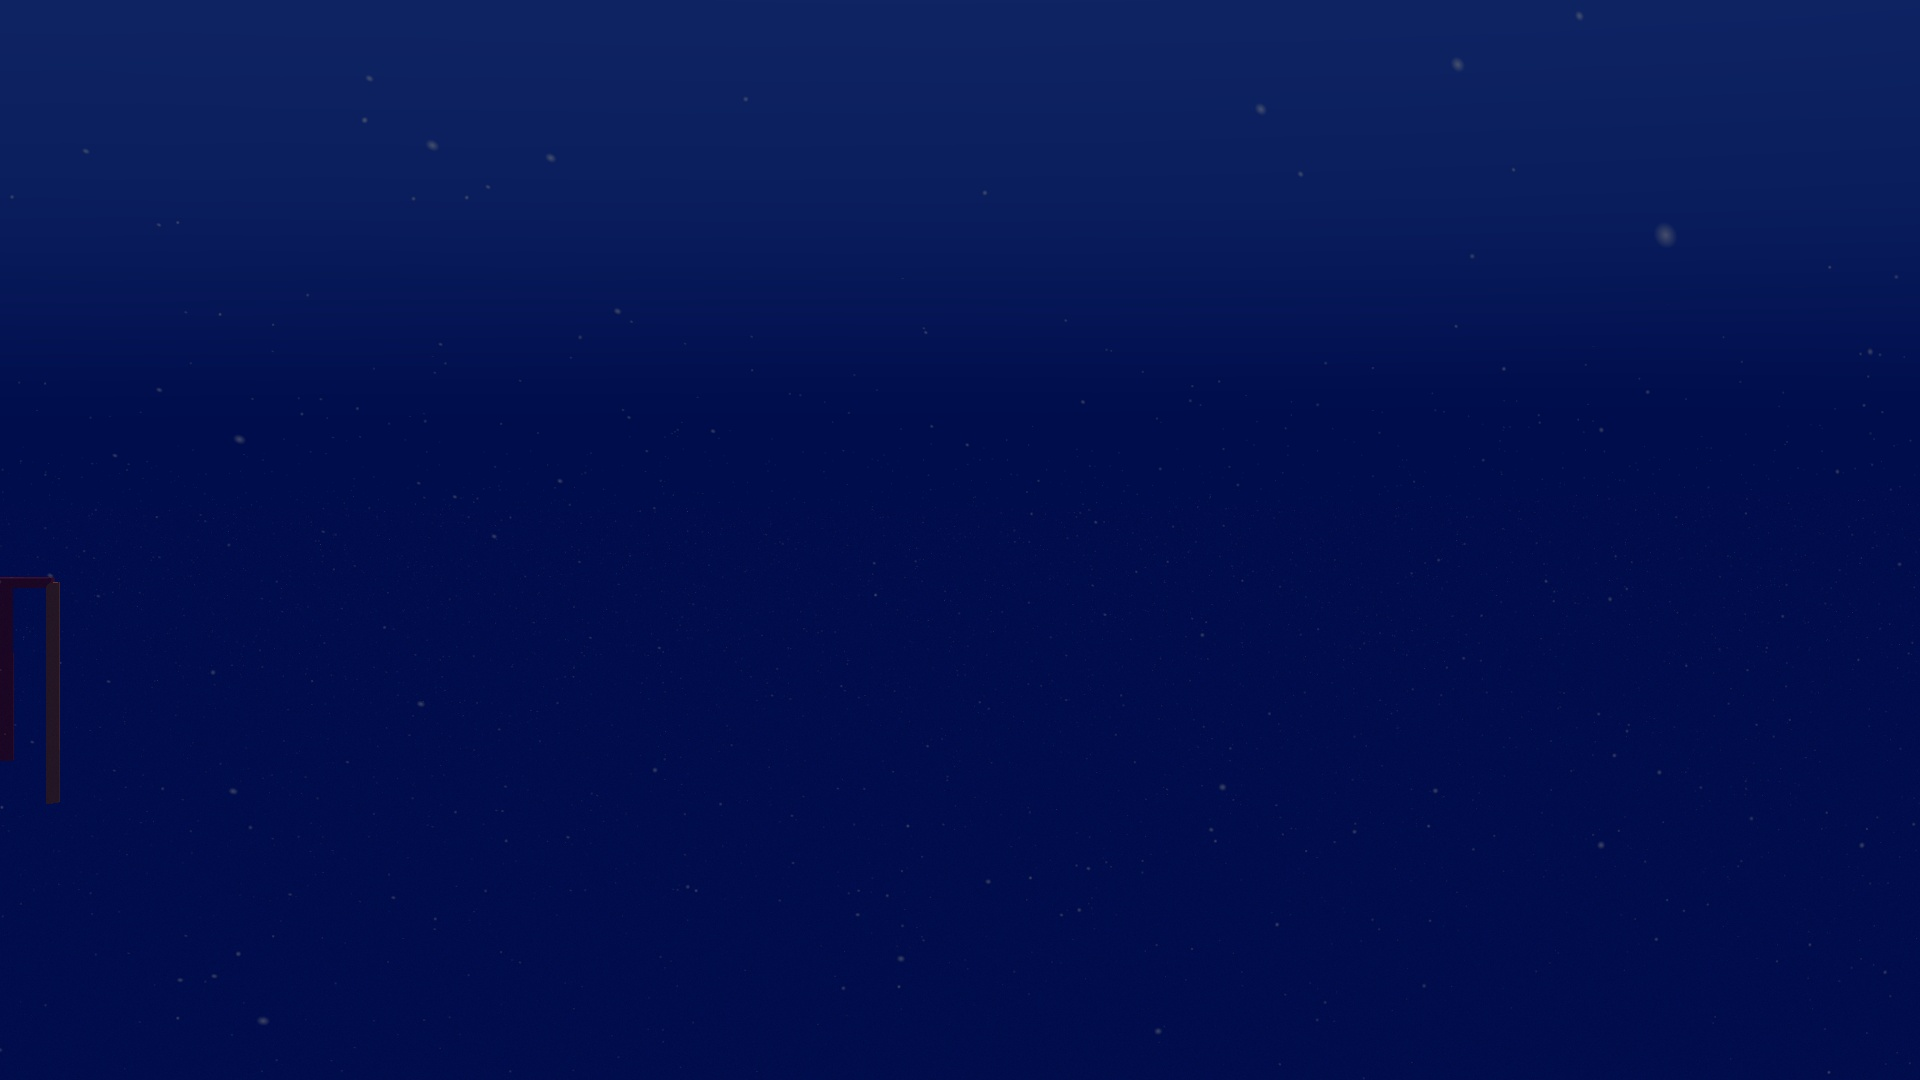Gate: (1, 568, 76, 810)
